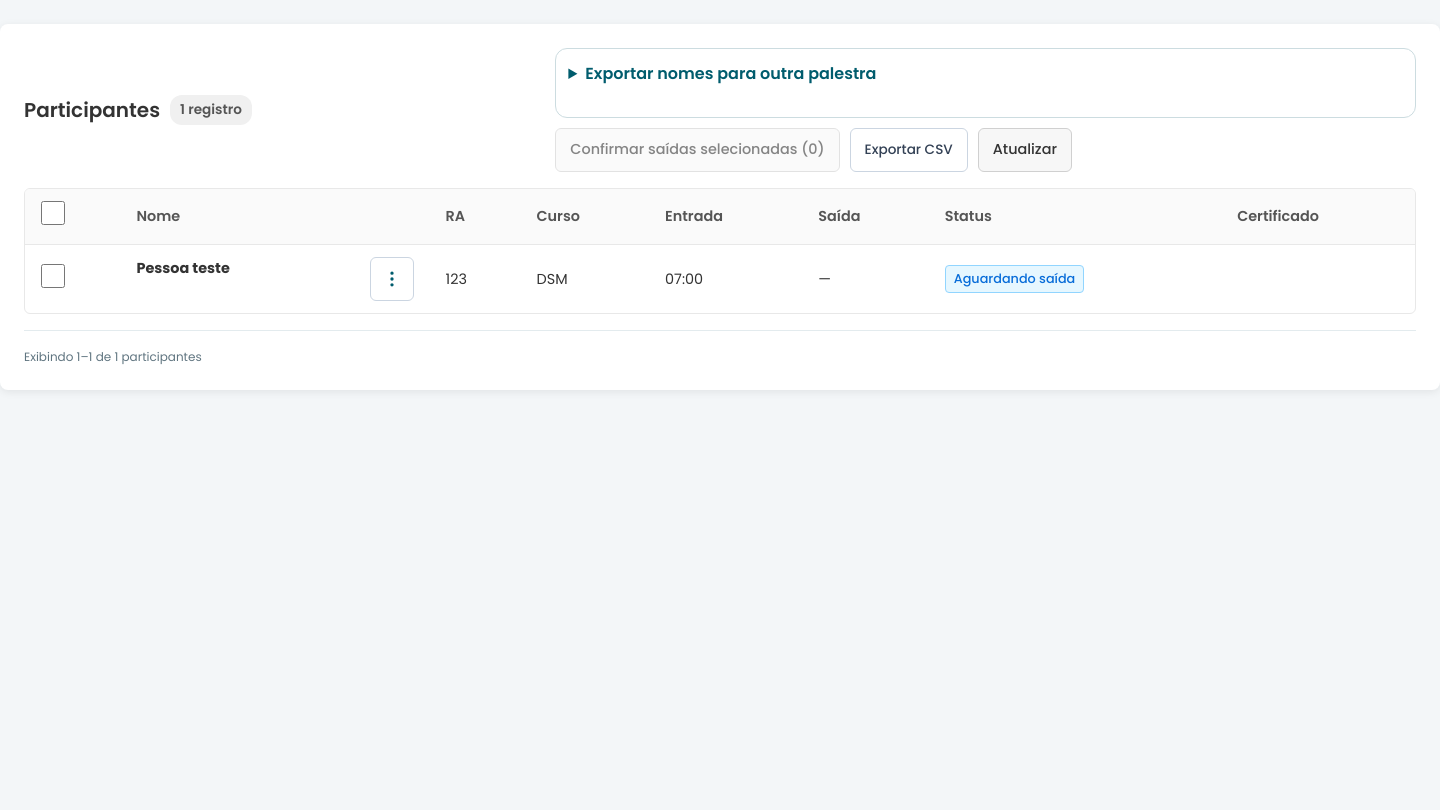
Test: Manual checkout from participant row › preserves reason after request failure and prevents double submission
Click the heading named "Ações para Pessoa teste". click: point(392, 279)
box: 370,257 -> 414,301
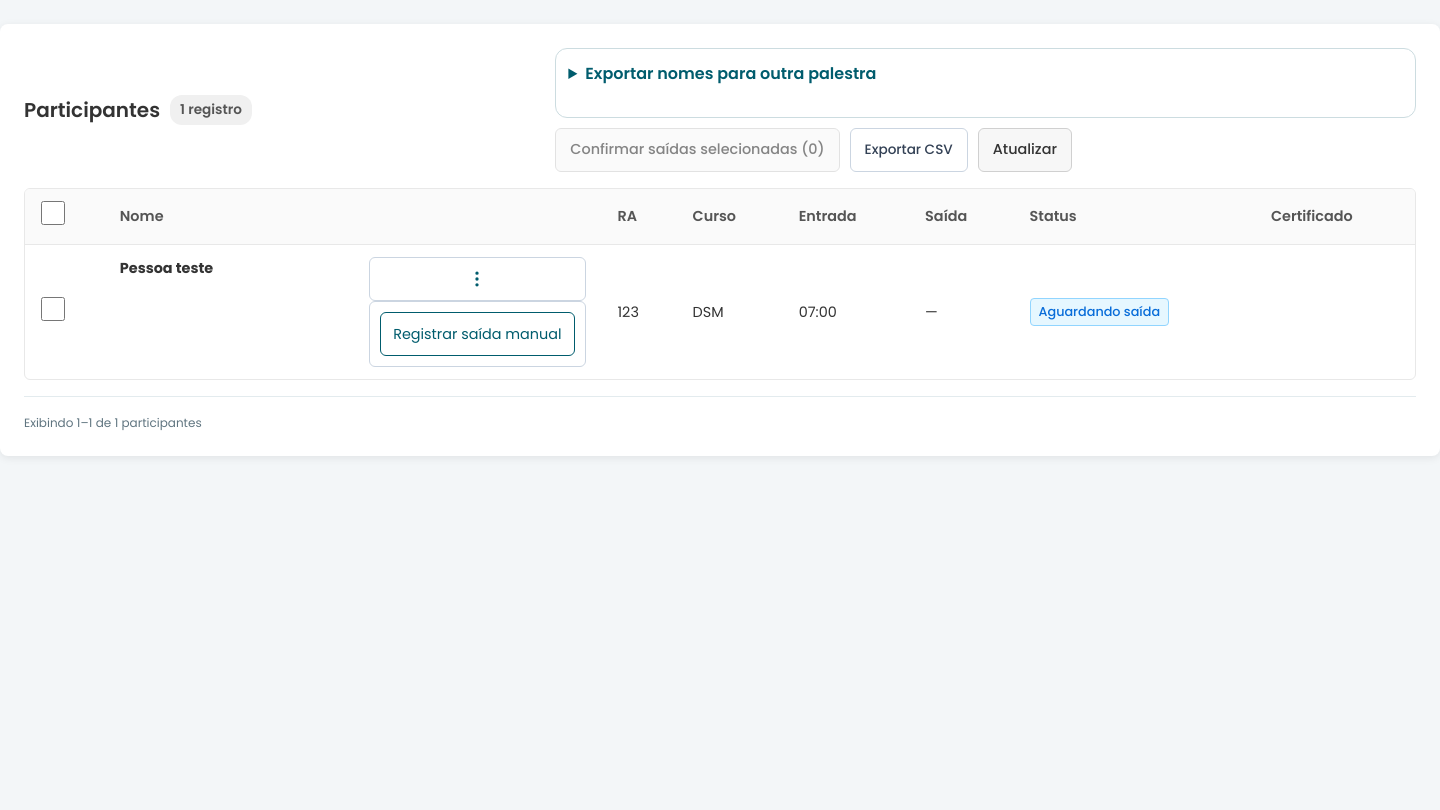
Click the button "Registrar saída manual". click: point(477, 334)
box: 380,312 -> 574,356
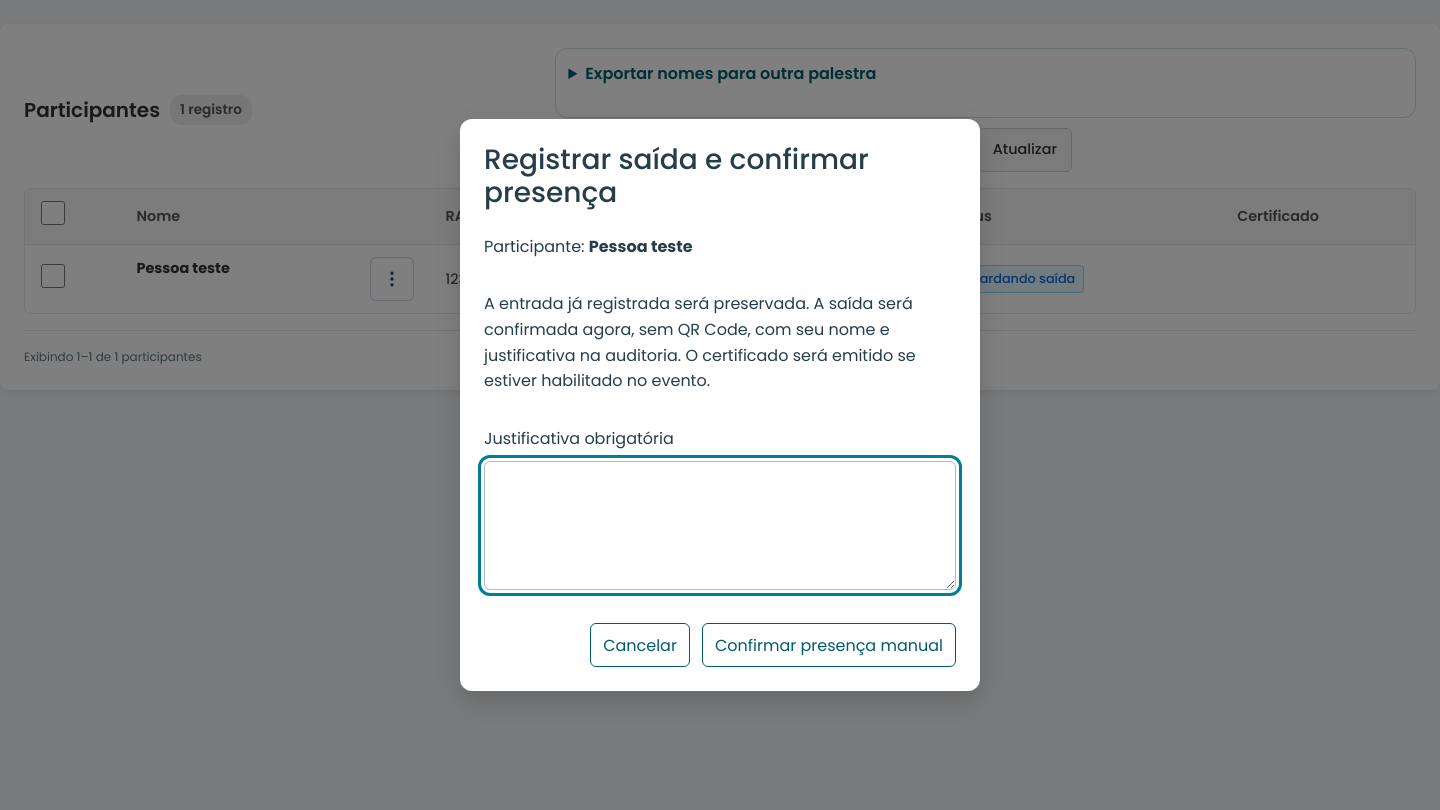
Type "Participação conferida pessoalmente." into the text box labelled "Justificativa obrigatória". click: point(720, 526)
box: 484,461 -> 956,590
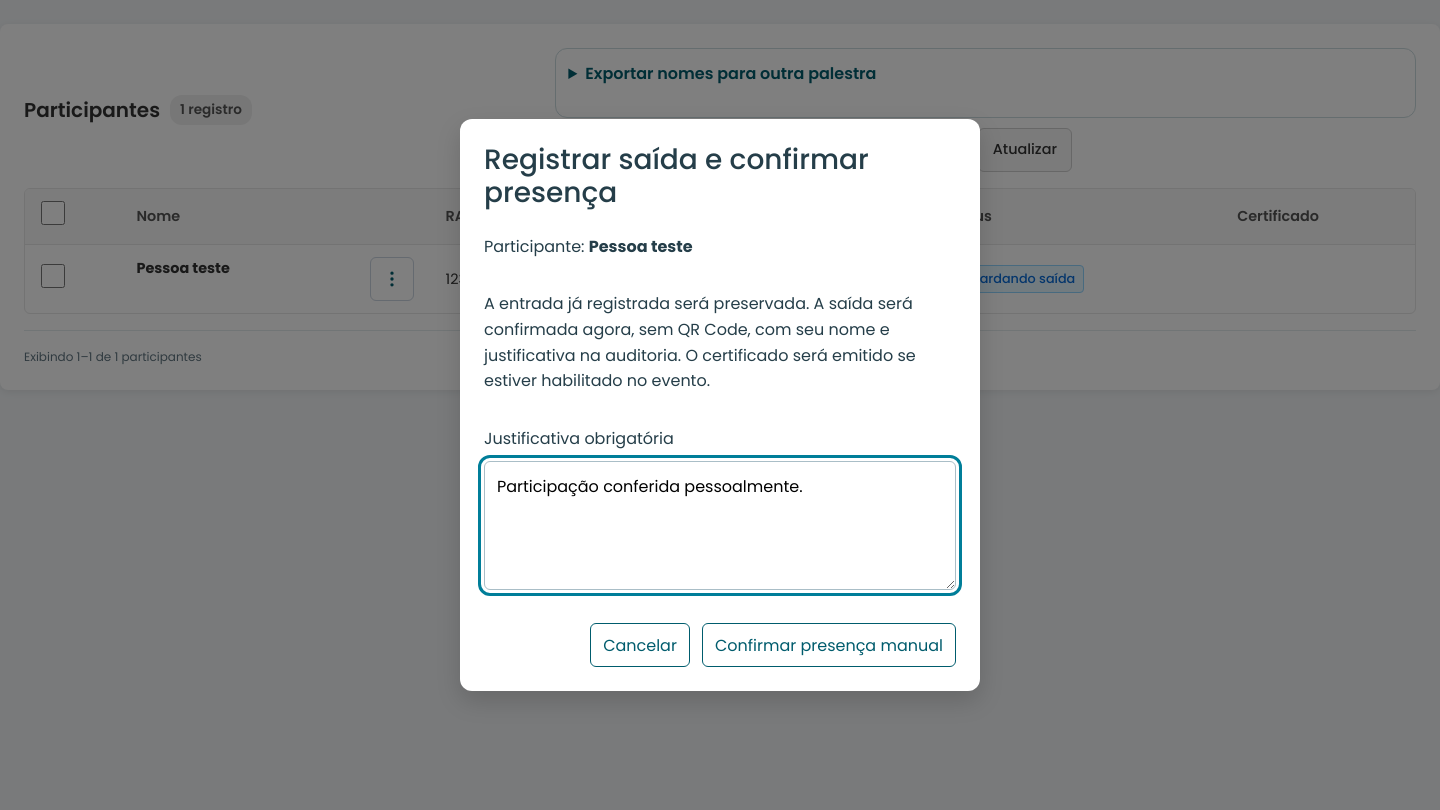
Click the button "Confirmar presença manual". click: point(829, 645)
box: 702,623 -> 956,667
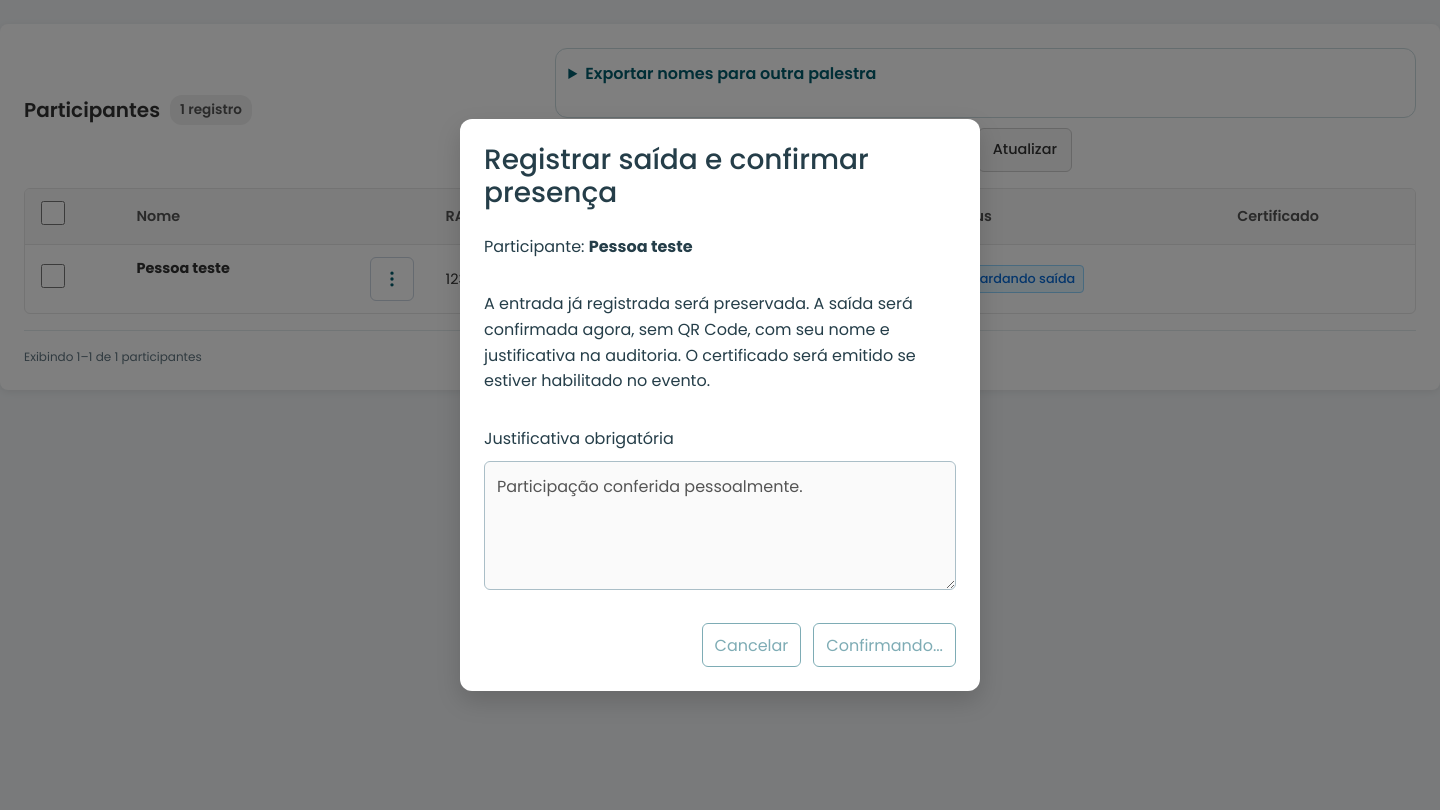
Click the button named "Confirmar presença manual". click: point(885, 645)
box: 813,623 -> 956,667
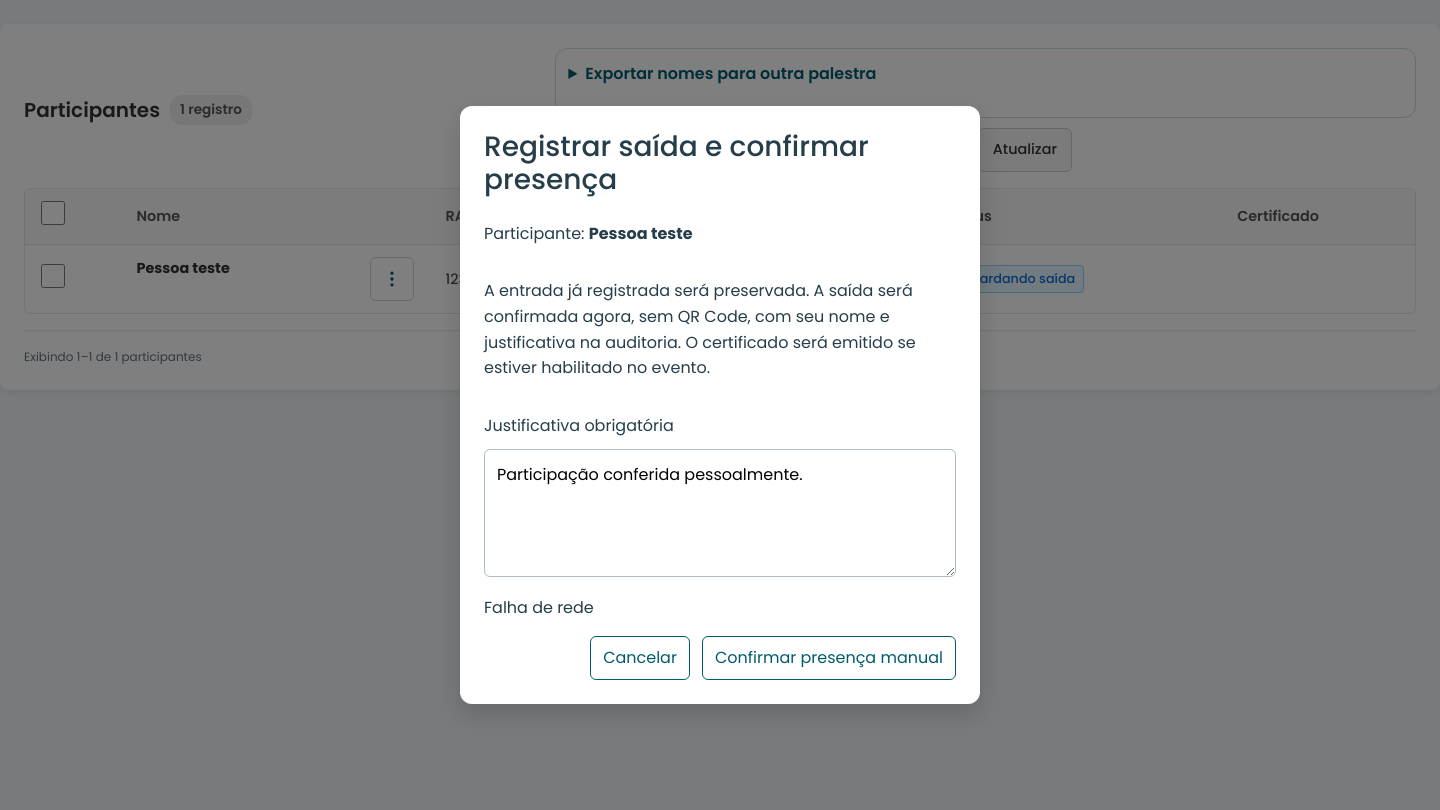
Expected: the message reads "Falha de rede", 484,596 -> 594,619
